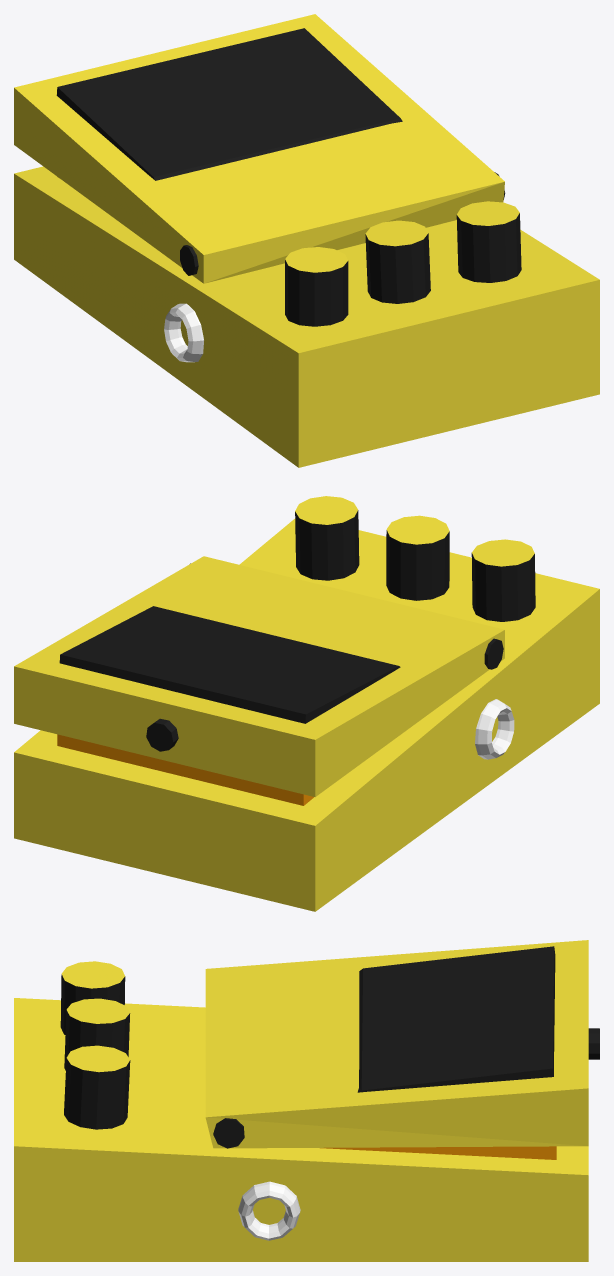
The model's file is Effects_Pedal.glb.
3 renders of one model, top to bottom at view 1: azimuth 30°, elevation 25°; view 2: azimuth 150°, elevation 25°; view 3: azimuth 270°, elevation 25°, orthographic.
Parts seen in each view (by area): view 1: group392190358, group1655281629, group1411390515, group1118640416, group332766569, group1587522966, group1667536579; view 2: group392190358, group1655281629, group1411390515, group1118640416, group332766569, group1587522966, group81912816, group1667536579, group2103703536; view 3: group392190358, group1655281629, group1411390515, group332766569, group1118640416, group1587522966, group718641998, group81912816, group32996253.
Part boxes in pixels (left/top/right/bottom): group392190358: left=14, top=166, right=599, bottom=467; group1655281629: left=14, top=14, right=504, bottom=283; group1411390515: left=56, top=28, right=402, bottom=180; group1118640416: left=365, top=220, right=430, bottom=303; group332766569: left=456, top=201, right=521, bottom=282; group1587522966: left=285, top=247, right=348, bottom=326; group1667536579: left=164, top=303, right=203, bottom=362; group392190358: left=14, top=518, right=599, bottom=911; group1655281629: left=14, top=556, right=504, bottom=796; group1411390515: left=59, top=606, right=400, bottom=723; group1118640416: left=386, top=515, right=449, bottom=600; group332766569: left=295, top=496, right=359, bottom=580; group1587522966: left=471, top=539, right=535, bottom=621; group81912816: left=57, top=734, right=313, bottom=805; group1667536579: left=475, top=699, right=514, bottom=759; group2103703536: left=146, top=718, right=178, bottom=751; group392190358: left=14, top=998, right=588, bottom=1261; group1655281629: left=205, top=940, right=588, bottom=1148; group1411390515: left=357, top=946, right=555, bottom=1092; group332766569: left=64, top=1045, right=130, bottom=1129; group1118640416: left=64, top=998, right=130, bottom=1070; group1587522966: left=60, top=961, right=125, bottom=1034; group718641998: left=238, top=1181, right=300, bottom=1240; group81912816: left=320, top=1146, right=556, bottom=1159; group32996253: left=213, top=1118, right=244, bottom=1148.
Size of the model in its own units: 0.1204 by 0.0623 by 0.1836.
